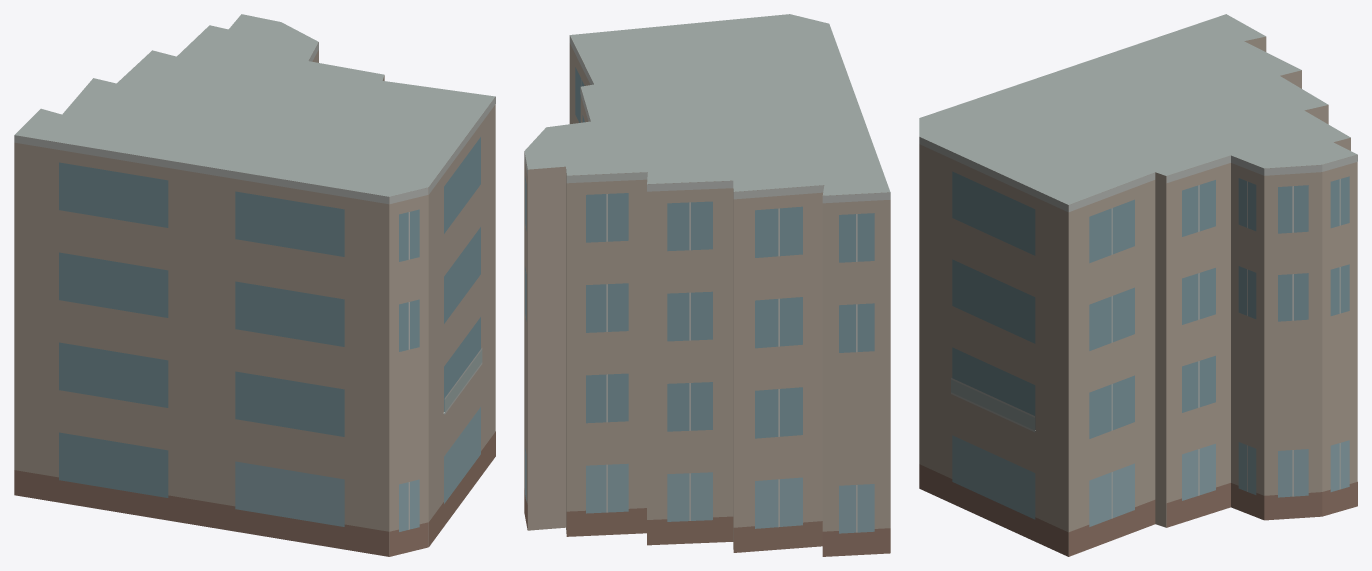
Rendered from survey-upis-32998107.glb.
3 views of the same model, side by side, from view 1: azimuth 30°, elevation 25°; view 2: azimuth 150°, elevation 25°; view 3: azimuth 270°, elevation 25° (orthographic). The views are drawn at different scales.
Parts seen in each view (by area): view 1: survey-upis-32998107.tmp; view 2: survey-upis-32998107.tmp; view 3: survey-upis-32998107.tmp.
Boxes of the visible parts, x1=… form: survey-upis-32998107.tmp: x1=14, y1=14, x2=495, y2=556; survey-upis-32998107.tmp: x1=524, y1=14, x2=890, y2=556; survey-upis-32998107.tmp: x1=919, y1=14, x2=1357, y2=556.
Size of the model in its own units: 13.63 by 11.7 by 13.22.
